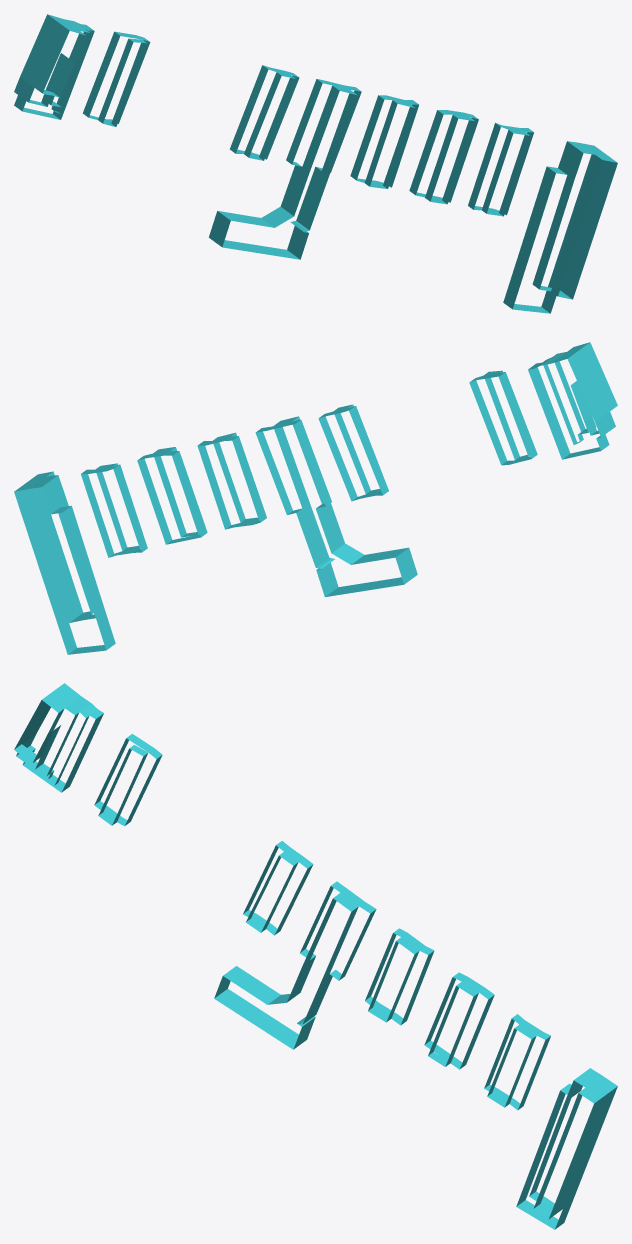
File: Wall_Hini_0.0_Slope_1.0.obj
The picture shows the model from 3 angles, top to bottom: view 1: azimuth 30°, elevation 25°; view 2: azimuth 150°, elevation 25°; view 3: azimuth 330°, elevation 25°; orthographic projection.
Parts seen in each view (by area): view 1: 1, 5, 8, 4, 3, 6, 7, 2; view 2: 1, 5, 8, 4, 7, 3, 6, 2; view 3: 1, 5, 8, 4, 3, 2, 6, 7.
Part boxes in pixels (x1=…): 1: x1=503, y1=141, x2=617, y2=313; 5: x1=209, y1=79, x2=361, y2=259; 8: x1=14, y1=14, x2=94, y2=119; 4: x1=409, y1=110, x2=478, y2=204; 3: x1=350, y1=95, x2=418, y2=188; 6: x1=229, y1=65, x2=299, y2=160; 7: x1=82, y1=31, x2=150, y2=126; 2: x1=468, y1=123, x2=533, y2=216; 1: x1=14, y1=471, x2=115, y2=654; 5: x1=255, y1=416, x2=417, y2=596; 8: x1=528, y1=342, x2=617, y2=459; 4: x1=137, y1=447, x2=207, y2=544; 7: x1=469, y1=370, x2=537, y2=465; 3: x1=197, y1=432, x2=266, y2=529; 6: x1=318, y1=404, x2=388, y2=501; 2: x1=81, y1=463, x2=147, y2=557; 1: x1=516, y1=1068, x2=617, y2=1229; 5: x1=214, y1=881, x2=376, y2=1049; 8: x1=14, y1=683, x2=103, y2=792; 4: x1=424, y1=972, x2=494, y2=1069; 3: x1=365, y1=928, x2=434, y2=1025; 2: x1=484, y1=1014, x2=550, y2=1110; 6: x1=243, y1=841, x2=313, y2=935; 7: x1=94, y1=734, x2=162, y2=826.
Bounding box in the file's own units: 135 × 92 × 9.52.
